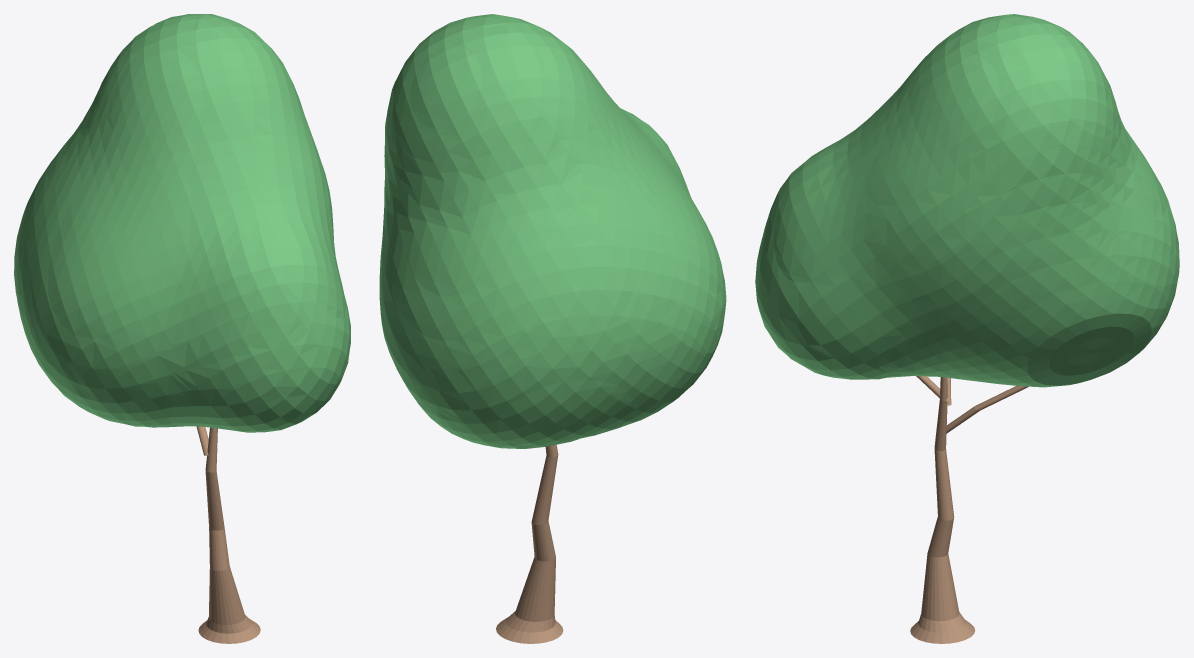
The model's file is Cartoon_Trees_Pack_Tree_1.glb.
3 views of the same model, side by side, from view 1: azimuth 30°, elevation 25°; view 2: azimuth 150°, elevation 25°; view 3: azimuth 270°, elevation 25° (orthographic). The views are drawn at different scales.
Visible parts, largest first — view 1: Canopy, Trunk; view 2: Canopy, Trunk; view 3: Canopy, Trunk.
Part boxes in pixels (<box>): Canopy: <box>14,14,350,432</box>; Trunk: <box>196,426,260,643</box>; Canopy: <box>379,14,726,448</box>; Trunk: <box>496,444,563,643</box>; Canopy: <box>755,14,1179,387</box>; Trunk: <box>910,376,1028,643</box>.
Size of the model in its own units: 408 by 836 by 528.
